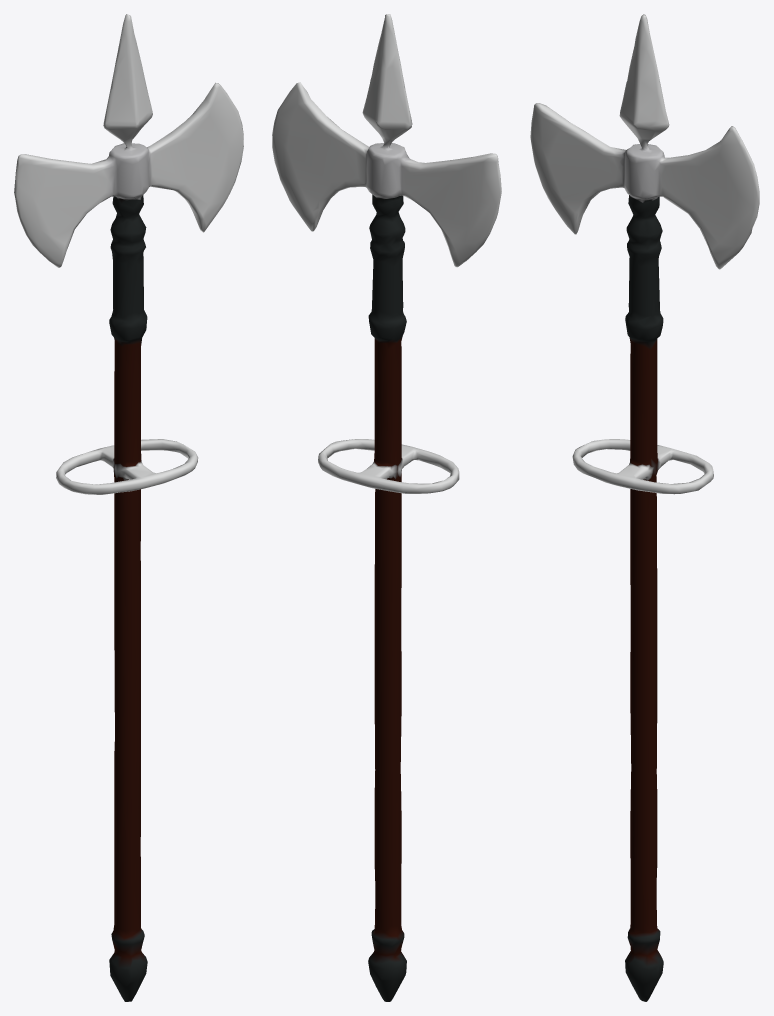
The model's file is gen3d-halberd-lod0.glb.
The picture shows the model from 3 angles, left to right: view 1: azimuth 30°, elevation 25°; view 2: azimuth 150°, elevation 25°; view 3: azimuth 330°, elevation 25°; orthographic projection.
Parts seen in each view (by area): view 1: part_0; view 2: part_0; view 3: part_0.
Part boxes in pixels (left/top/right/bottom): part_0: left=14, top=14, right=243, bottom=1001; part_0: left=272, top=14, right=501, bottom=1001; part_0: left=530, top=14, right=759, bottom=1001.
Size of the model in its own units: 0.243 by 0.9992 by 0.0828.
